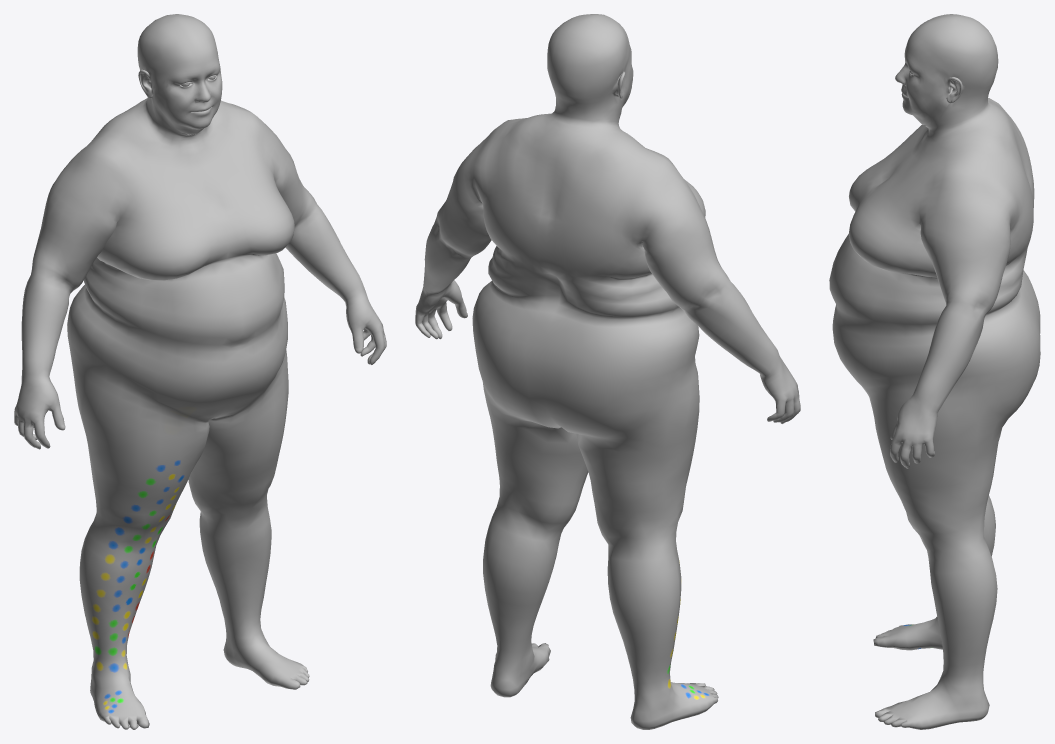
Rendered from 1135032-supine-all.gltf.
3 renders of one model, left to right at view 1: azimuth 30°, elevation 25°; view 2: azimuth 150°, elevation 25°; view 3: azimuth 270°, elevation 25°, orthographic. The views are drawn at different scales.
Parts seen in each view (by area): view 1: Female 63in 275lbs; view 2: Female 63in 275lbs; view 3: Female 63in 275lbs.
Boxes of the visible parts, x1,y1,x2,y2 form: Female 63in 275lbs: (14,14,386,729); Female 63in 275lbs: (415,14,800,729); Female 63in 275lbs: (829,14,1040,729).
Bounding box in the file's own units: 2.74 × 4.81 × 1.38.
1 material, 1 textured.
